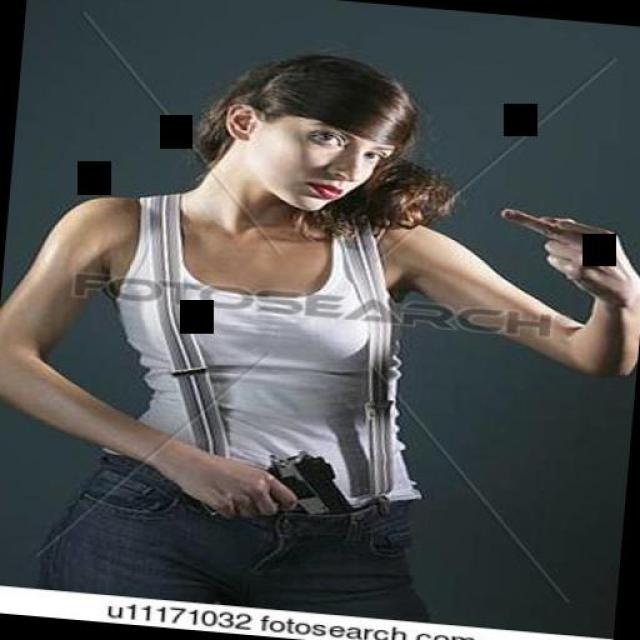gun: (234, 441, 361, 541)
